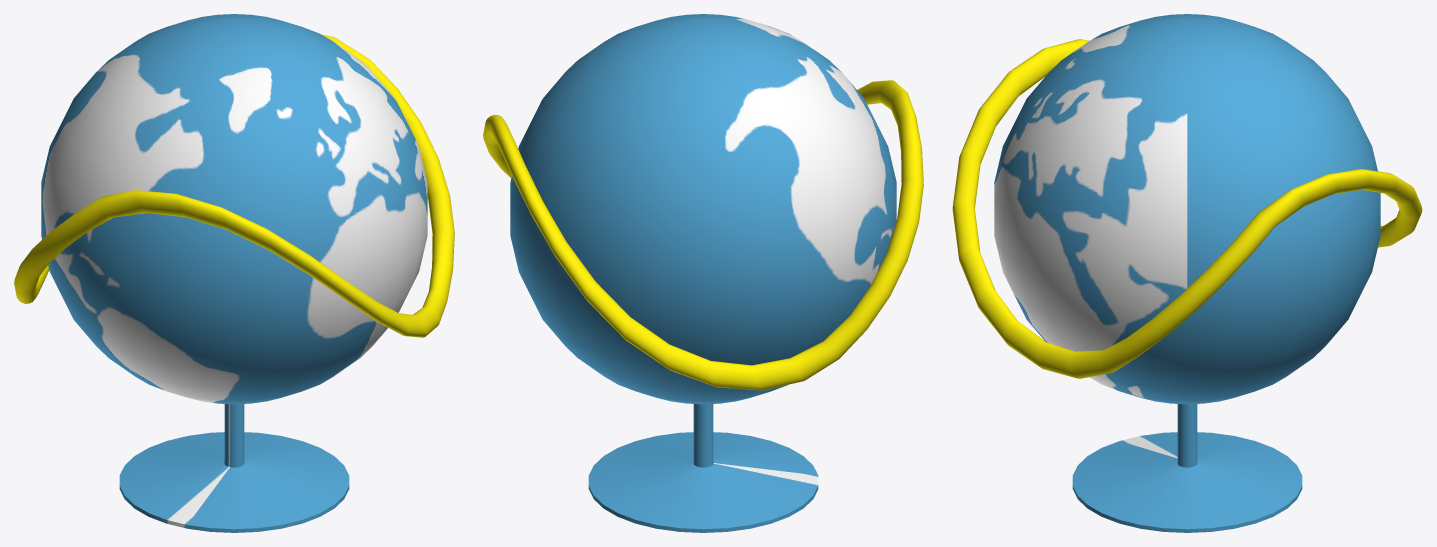
File: ggj.fbx
The picture shows the model from 3 angles, left to right: view 1: azimuth 30°, elevation 25°; view 2: azimuth 150°, elevation 25°; view 3: azimuth 270°, elevation 25°; orthographic projection.
Visible parts, largest first — view 1: Sphere, Torus_1; view 2: Sphere, Torus_1; view 3: Sphere, Torus_1.
Boxes of the visible parts, x1,y1,x2,y2 form: Sphere: [41, 14, 427, 532]; Torus_1: [14, 34, 454, 337]; Sphere: [510, 14, 896, 532]; Torus_1: [483, 80, 923, 390]; Sphere: [994, 14, 1380, 532]; Torus_1: [952, 39, 1422, 378].
Size of the model in its own units: 241 by 256 by 241.
Materials: 2 (1 with a texture image).
